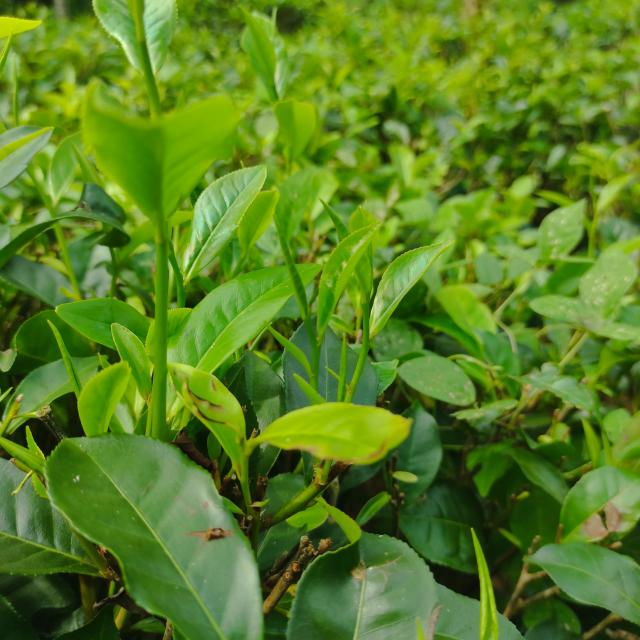unopened_leaf: (315, 192, 380, 297), (268, 212, 318, 332), (466, 513, 504, 640), (260, 310, 323, 385), (40, 314, 86, 406), (330, 325, 358, 408), (64, 129, 104, 183), (260, 0, 290, 48), (0, 24, 20, 70)
